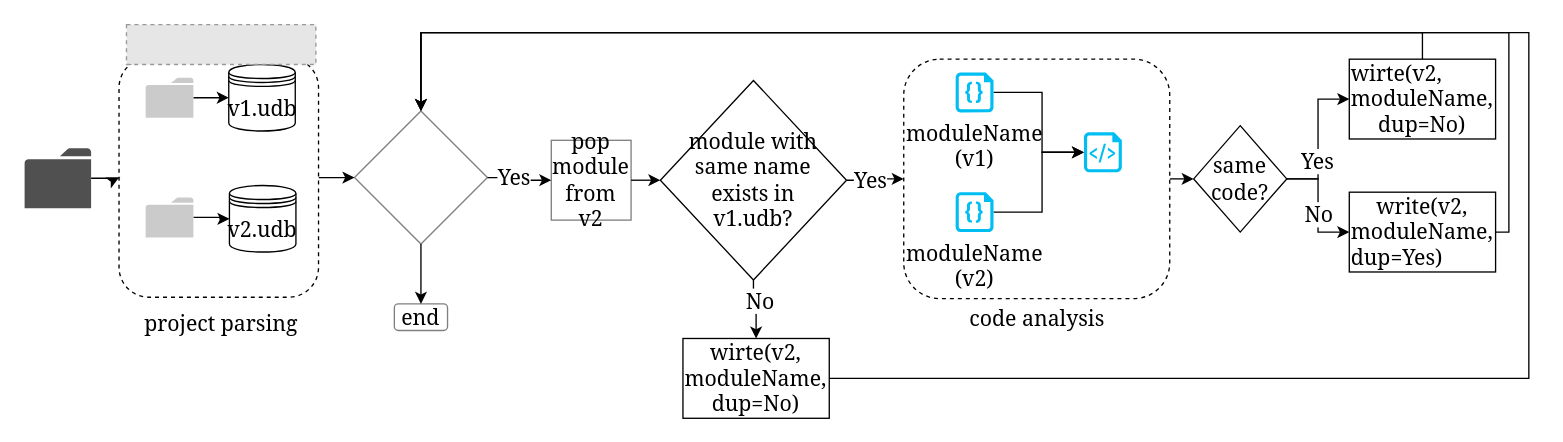
Some shapes in this 1563 by 442 pixel diagram are drawn without their labels. Grey dashed boxes stand in for pictures. Each missing label, with the box of its shape:
have more modules in v2.udb?: (353, 110, 487, 244)
lexeme comparison: (1083, 132, 1121, 172)
project: (24, 148, 90, 207)
release v1: (145, 77, 193, 117)
release v2: (145, 197, 193, 237)
